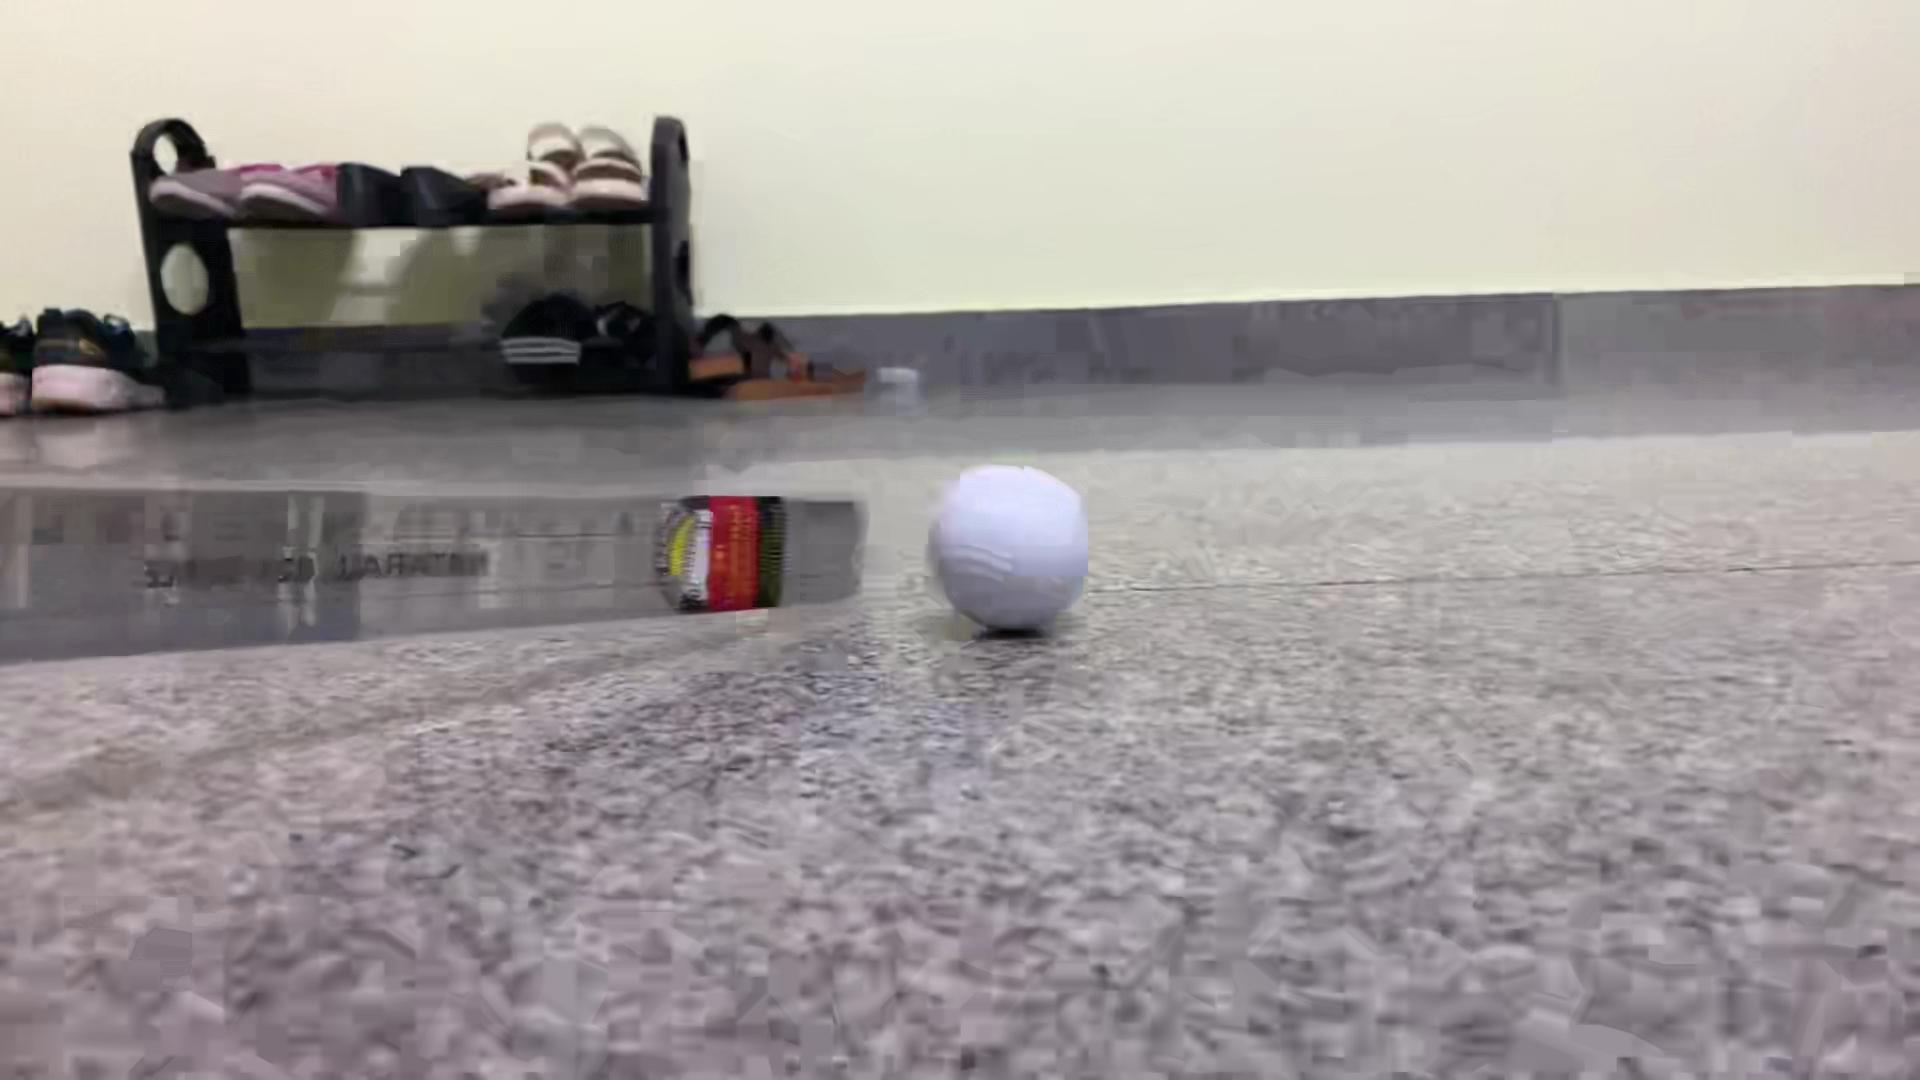golfball: (929, 464, 1090, 633)
